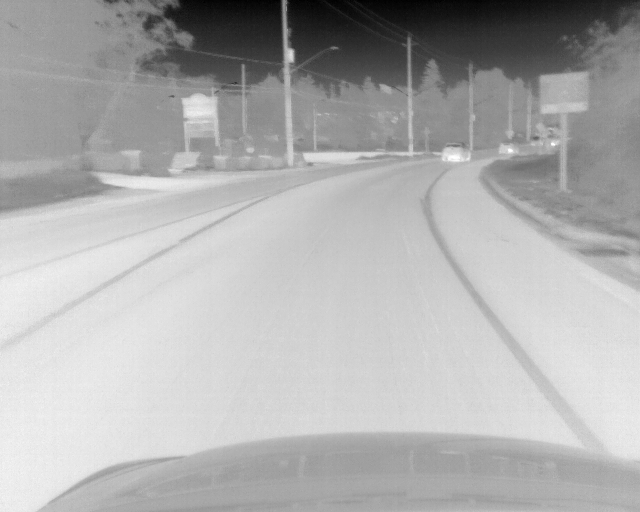car: (442, 142, 471, 162), (498, 142, 518, 157), (530, 135, 542, 146), (549, 138, 559, 147)
